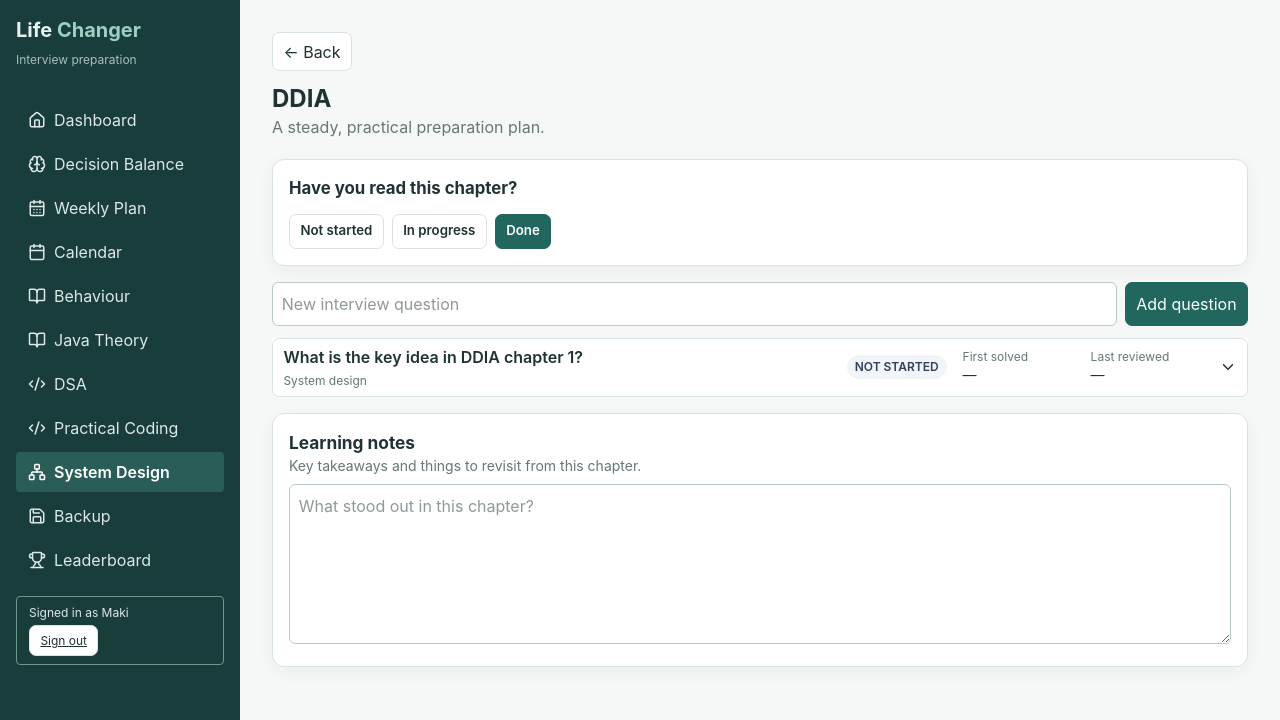
Test case: Personal activity logging (Calendar/Dashboard "activities") › does not re-log a duplicate activity when a chapter already marked Done is saved again
Click the button "Done" at point(523, 231), box [495, 214, 551, 249]
(page scrolled)
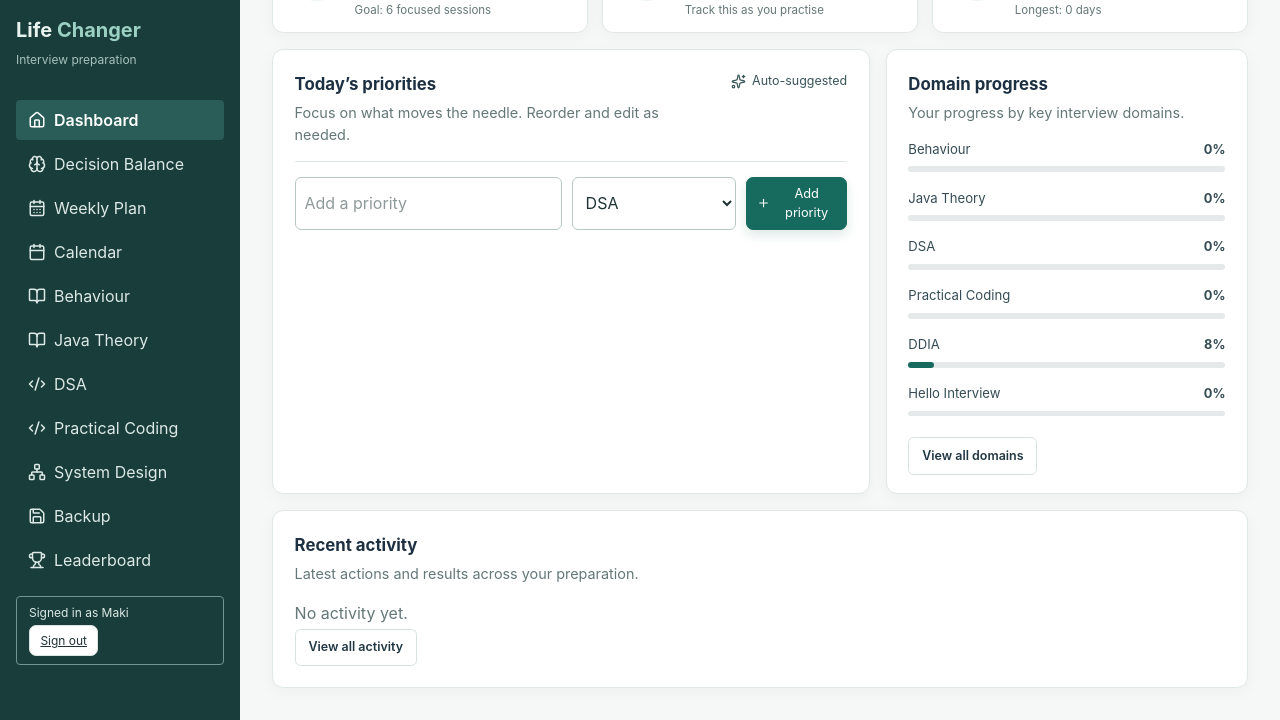
Check: the heading "Recent activity" is shown, box [295, 535, 417, 555]
Check: the button "DDIA chapter 1" is gone
